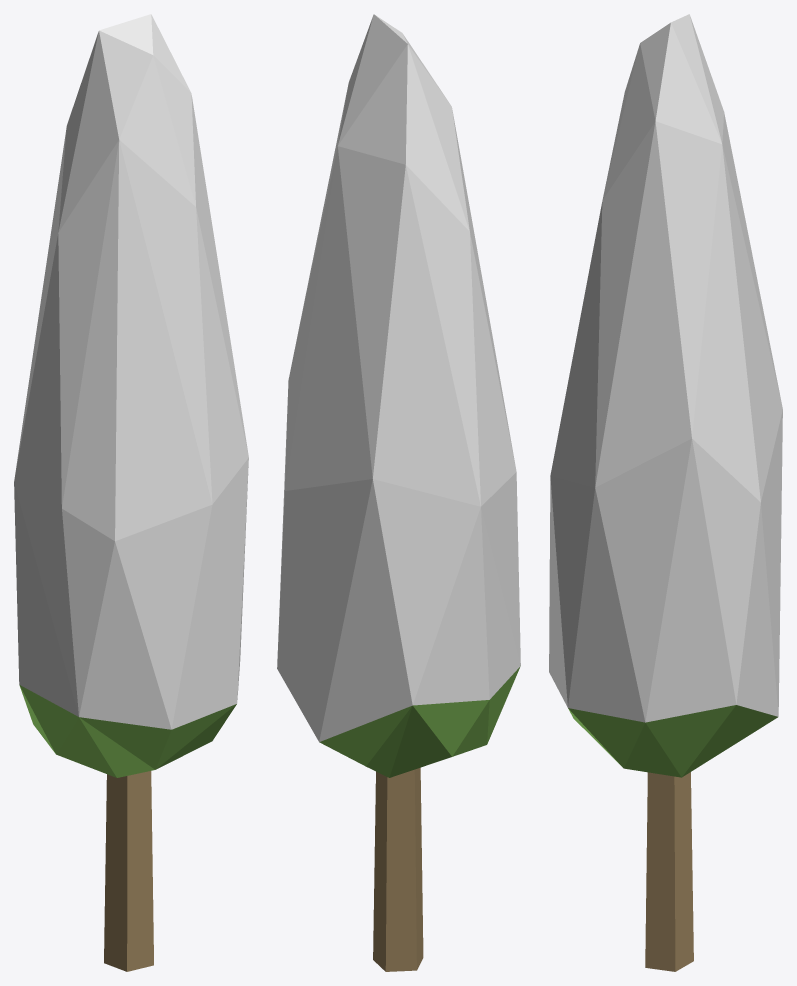
The model's file is Thuja_Tree_m_Snow_01_LOD.fbx.
The picture shows the model from 3 angles, left to right: view 1: azimuth 30°, elevation 25°; view 2: azimuth 150°, elevation 25°; view 3: azimuth 270°, elevation 25°; orthographic projection.
Visible parts, largest first — view 1: Thuja_Tree_m_Snow_01_LOD0; view 2: Thuja_Tree_m_Snow_01_LOD0; view 3: Thuja_Tree_m_Snow_01_LOD0.
Part boxes in pixels (x1,y1,x2,y2): Thuja_Tree_m_Snow_01_LOD0: [14, 14, 248, 971]; Thuja_Tree_m_Snow_01_LOD0: [277, 14, 520, 971]; Thuja_Tree_m_Snow_01_LOD0: [549, 14, 782, 971].
Size of what is drawn, in the model's own units: 96.9 by 435 by 97.04.
